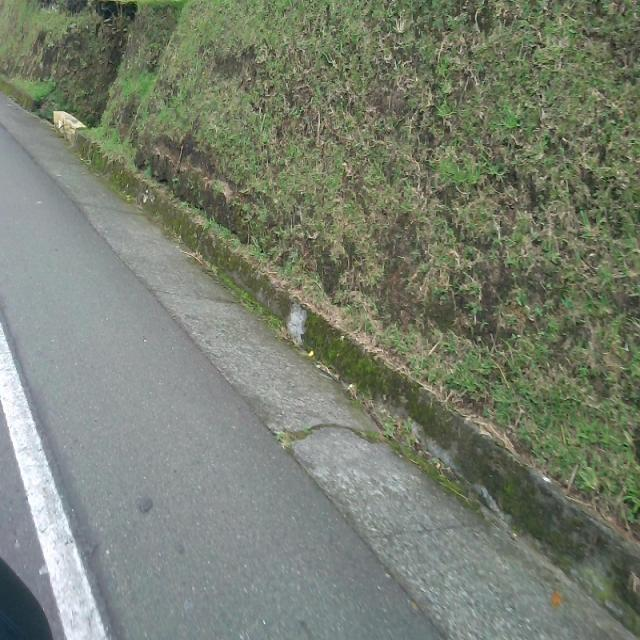DITCH: (1, 89, 638, 638)
